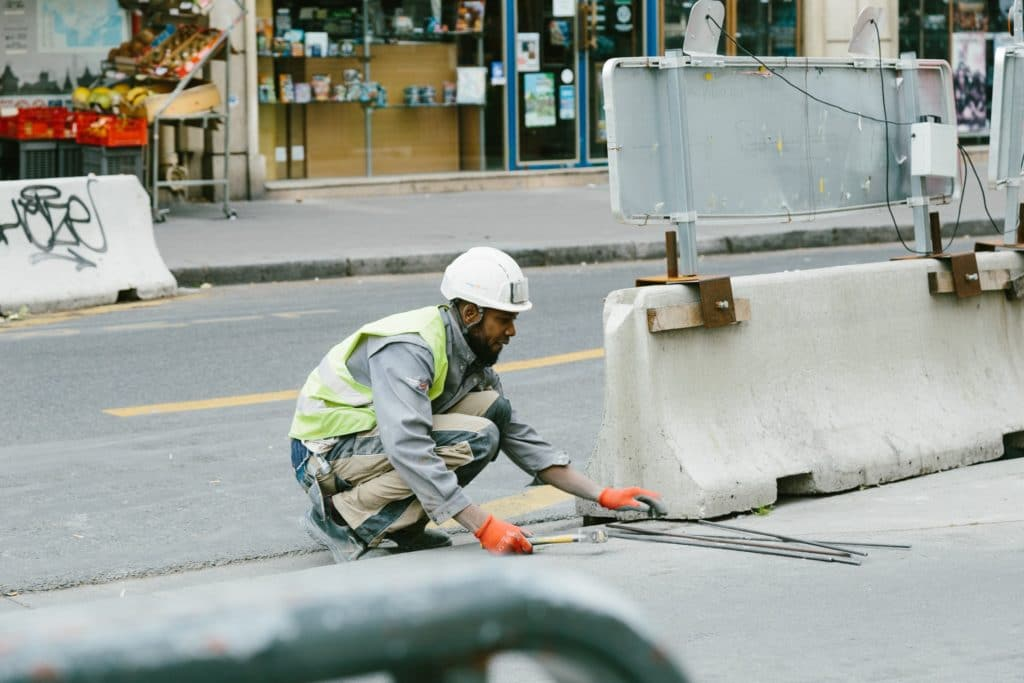hard hat: (440, 246, 532, 312)
high-vis: (292, 307, 446, 439)
